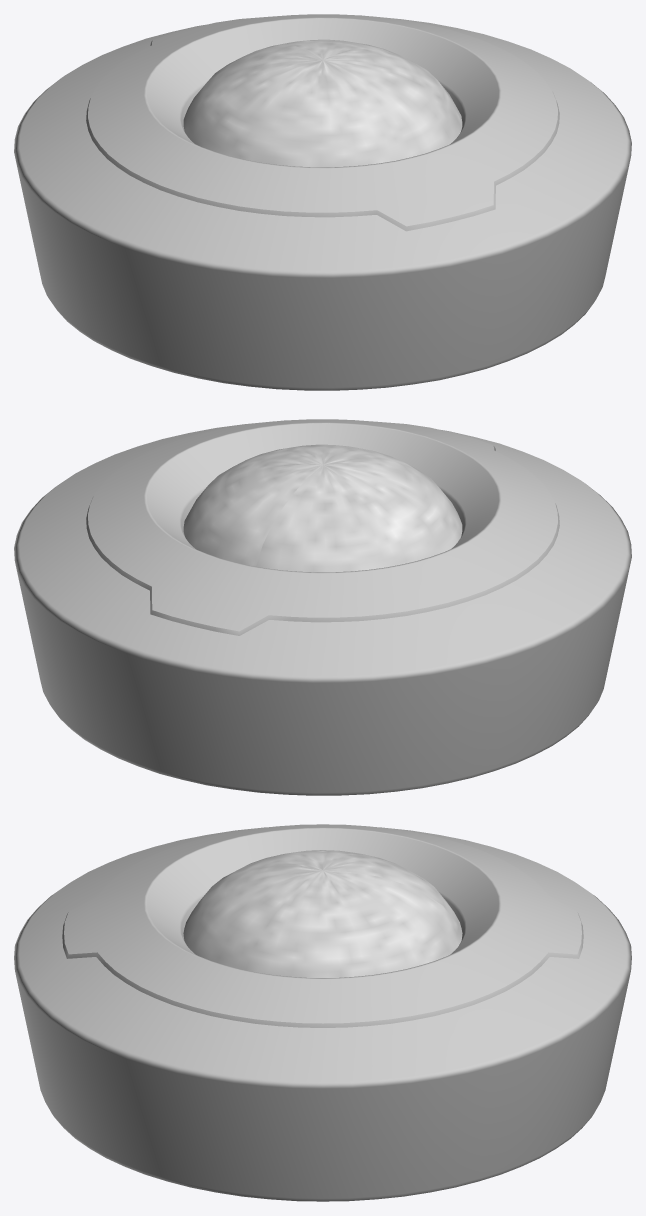
The model's file is pref_sm_beach_winter_techstadium02_lv3.fbx.
The picture shows the model from 3 angles, top to bottom: view 1: azimuth 30°, elevation 25°; view 2: azimuth 150°, elevation 25°; view 3: azimuth 270°, elevation 25°; orthographic projection.
Visible parts, largest first — view 1: pref_sm_beach_winter_techstadium02_lv3; view 2: pref_sm_beach_winter_techstadium02_lv3; view 3: pref_sm_beach_winter_techstadium02_lv3.
Part boxes in pixels (x1,y1,x2,y2): pref_sm_beach_winter_techstadium02_lv3: [14, 14, 631, 390]; pref_sm_beach_winter_techstadium02_lv3: [14, 419, 631, 795]; pref_sm_beach_winter_techstadium02_lv3: [14, 824, 631, 1201].
Size of the model in its own units: 27.09 by 10.25 by 27.05.
